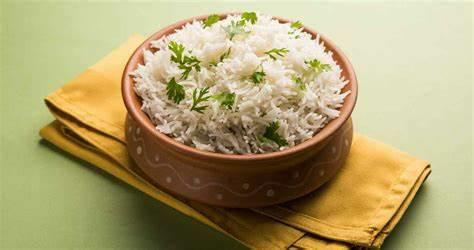WhiteRice: (128, 13, 350, 154)
